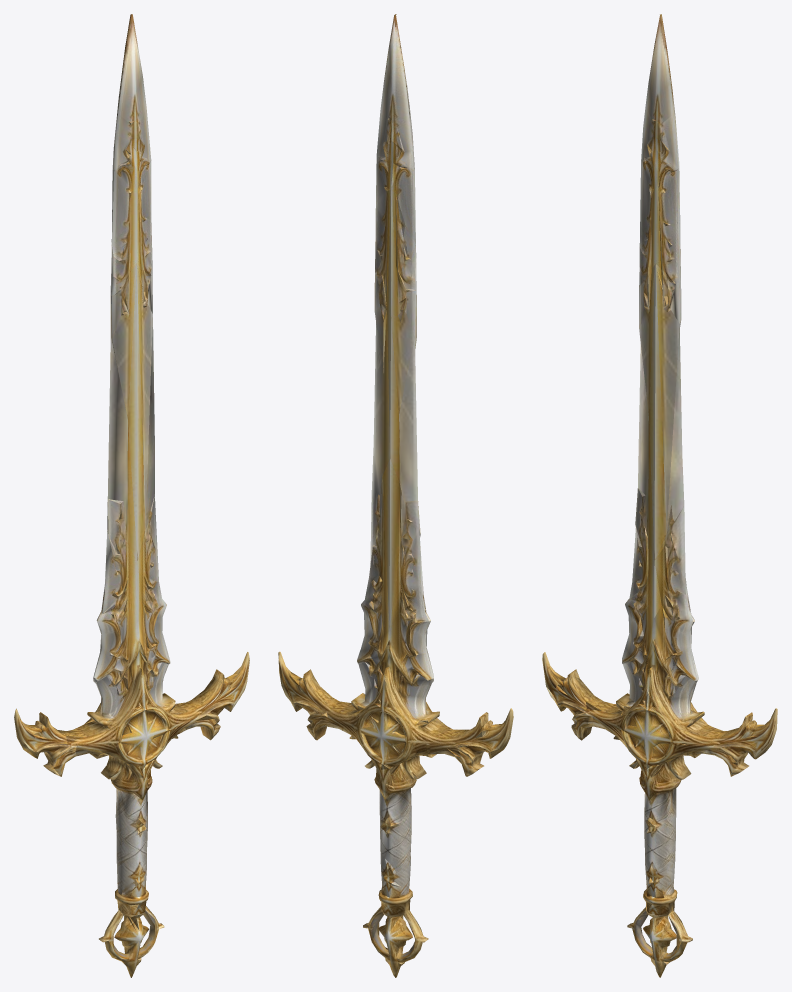
Rendered from sword-radiance.glb.
3 renders of one model, left to right at view 1: azimuth 30°, elevation 25°; view 2: azimuth 150°, elevation 25°; view 3: azimuth 330°, elevation 25°, orthographic.
Parts seen in each view (by area): view 1: Motion_Control; view 2: Motion_Control; view 3: Motion_Control.
Boxes of the visible parts, left/top/right/bottom form: Motion_Control: left=14, top=14, right=249, bottom=977; Motion_Control: left=278, top=14, right=513, bottom=977; Motion_Control: left=542, top=14, right=777, bottom=977.
Size of the model in its own units: 0.5112 by 2 by 0.112.
Materials: 1 (1 with a texture image).
